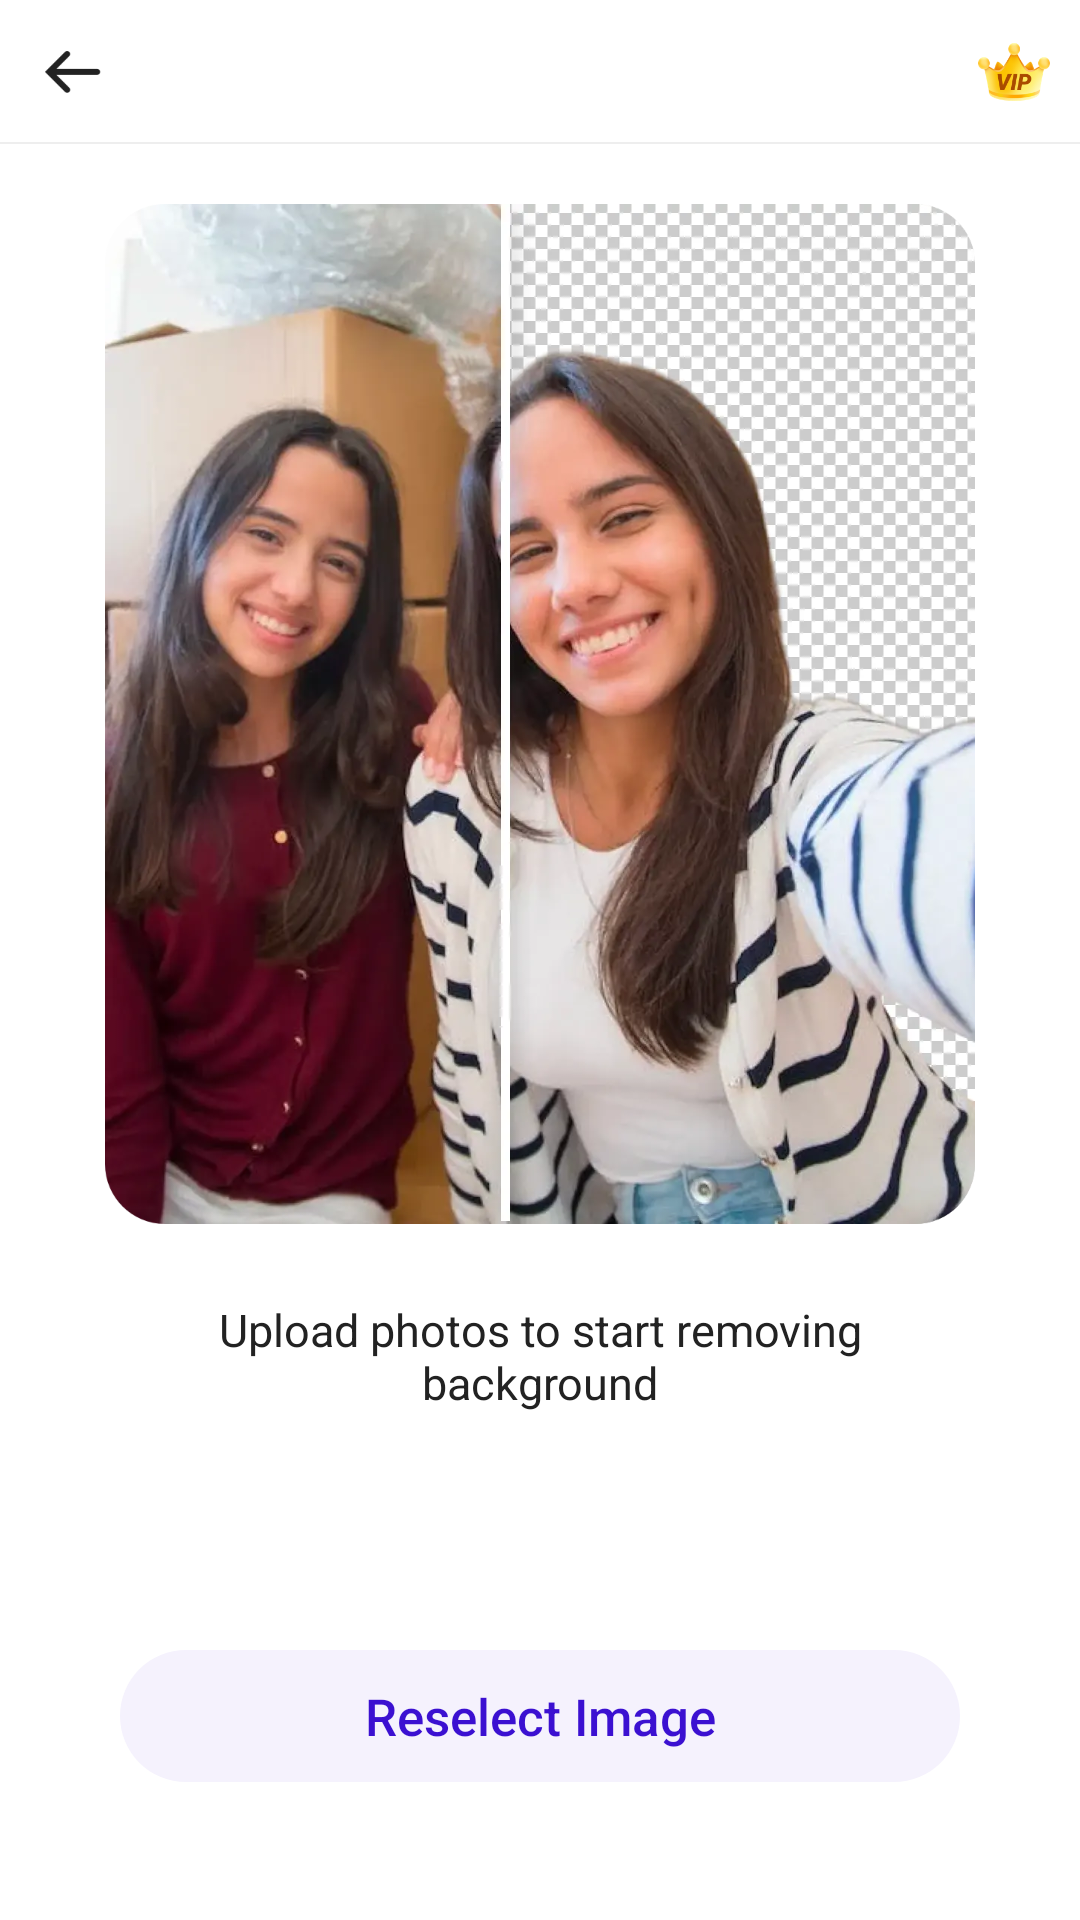

Locate icon controls on the screen. Image size 1080 x 1920, boxes as (x1, y1, x2, y2).
back: (45, 51, 101, 93)
